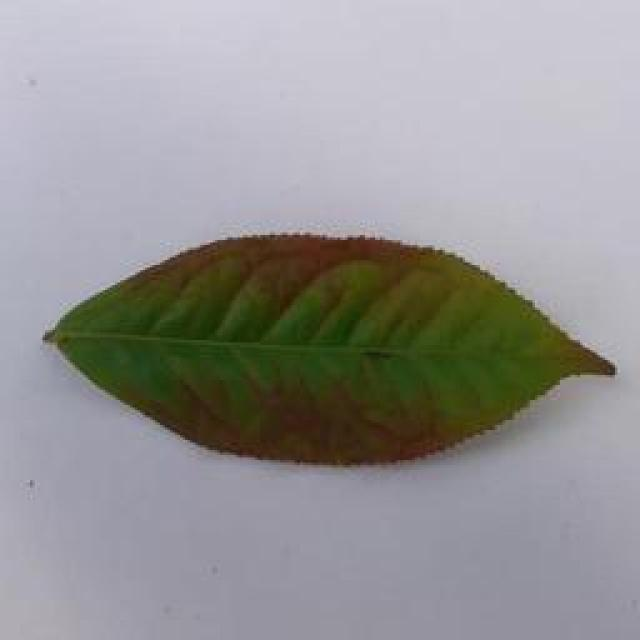Red Leaf Spot: (0, 215, 630, 480)
